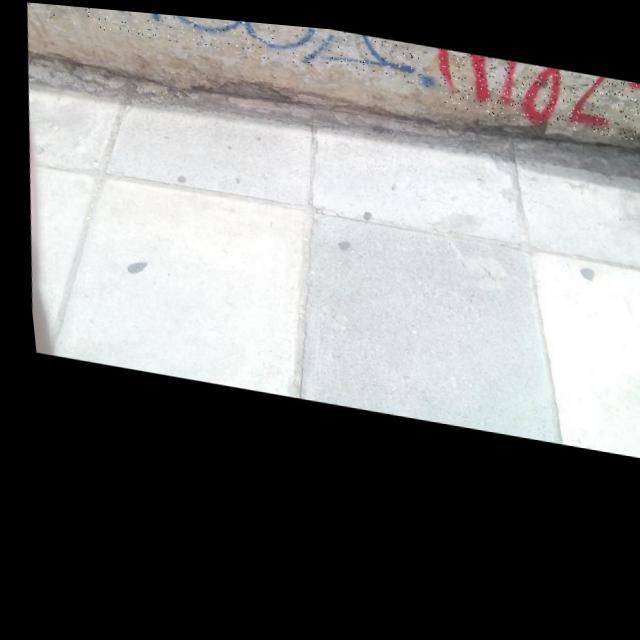-: (25, 2, 436, 79), (433, 39, 640, 133)
